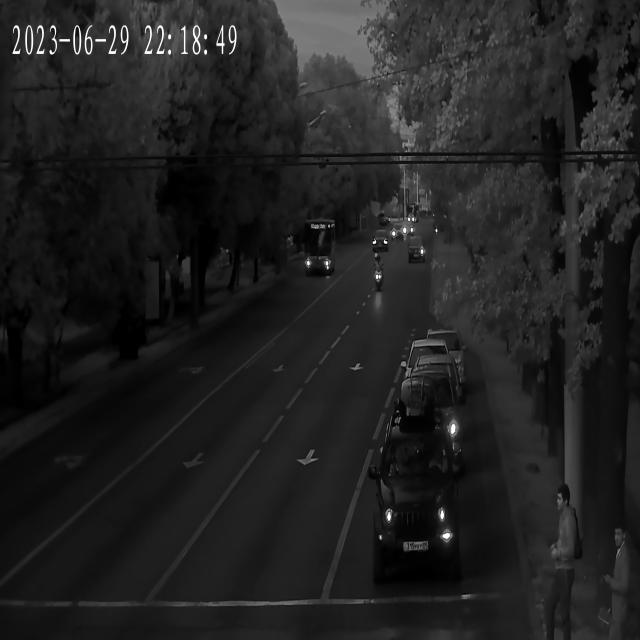Bus: (301, 217, 339, 283)
Car: (368, 380, 462, 599), (406, 354, 469, 479), (402, 342, 455, 427), (427, 323, 469, 396), (409, 237, 426, 264), (369, 227, 387, 251), (393, 219, 407, 243)
